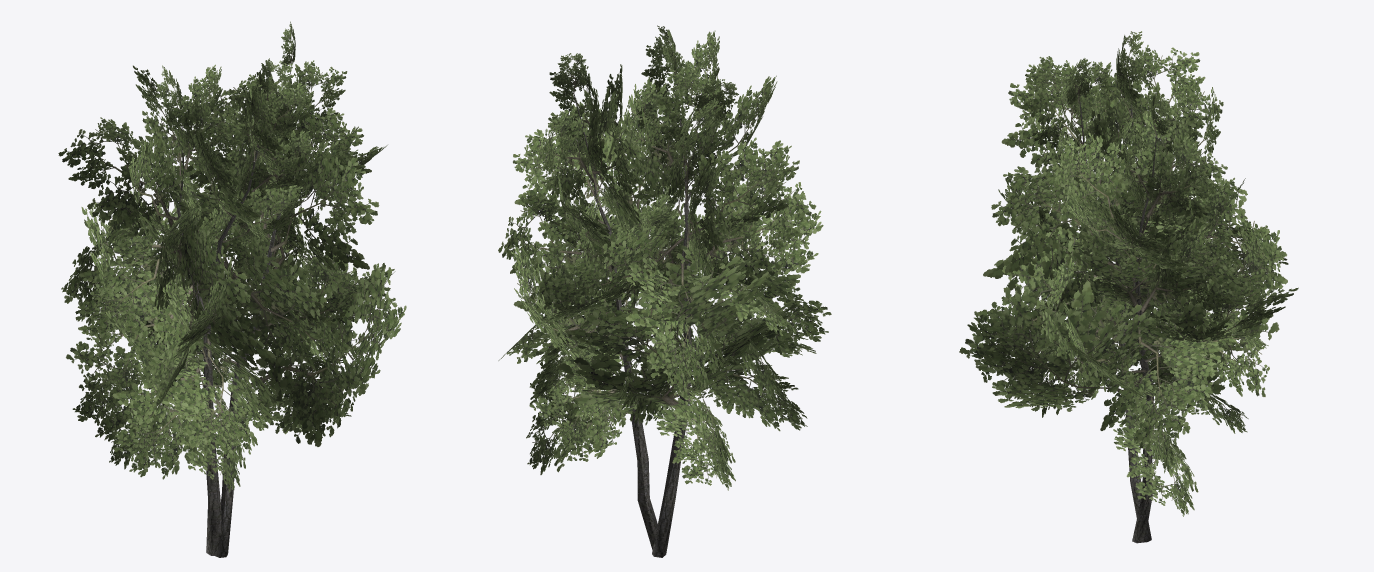
The model's file is tree12.fbx.
The picture shows the model from 3 angles, left to right: view 1: azimuth 30°, elevation 25°; view 2: azimuth 150°, elevation 25°; view 3: azimuth 270°, elevation 25°; orthographic projection. The views are drawn at different scales.
Parts seen in each view (by area): view 1: Tree-02-2; view 2: Tree-02-2; view 3: Tree-02-2.
Part boxes in pixels (left/top/right/bottom): Tree-02-2: left=58, top=21, right=406, bottom=557; Tree-02-2: left=498, top=25, right=831, bottom=557; Tree-02-2: left=959, top=31, right=1298, bottom=543.
Bounding box in the file's own units: 574 × 799 × 661.
